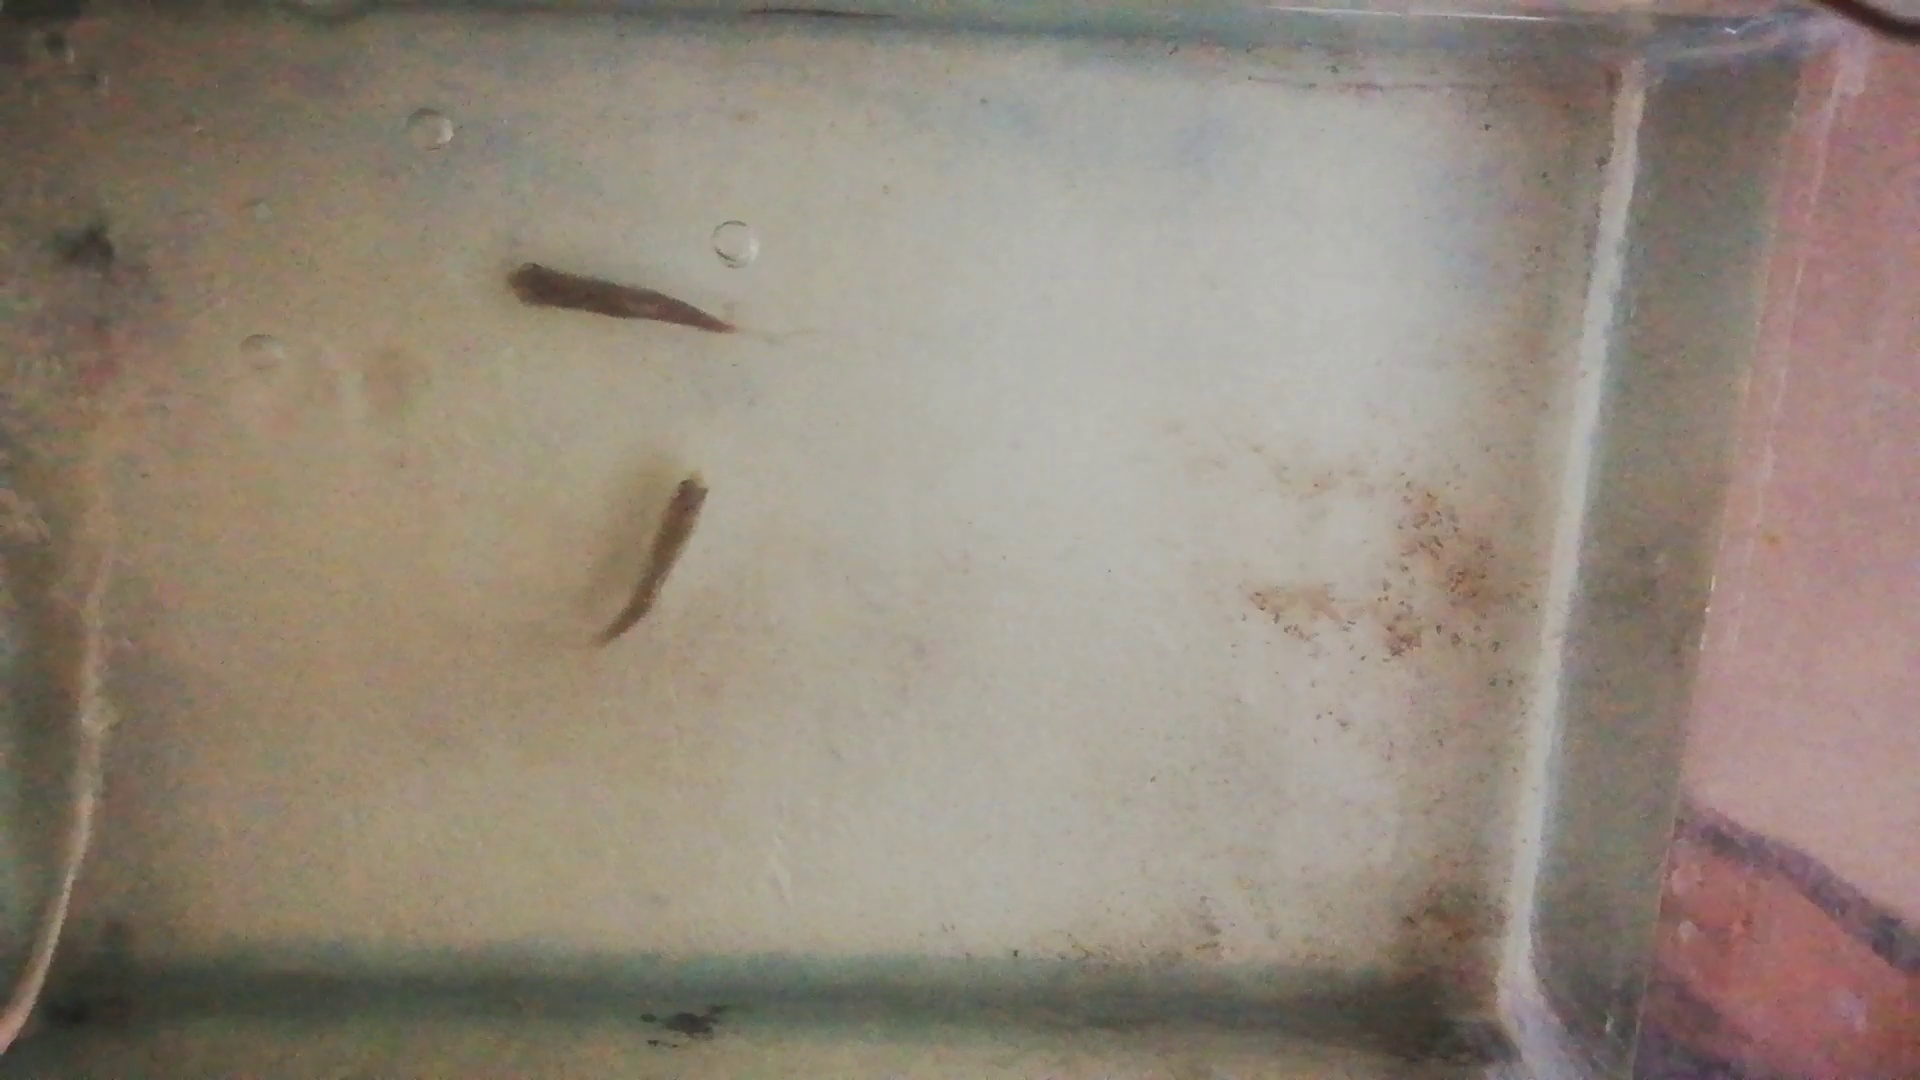fish: (597, 473, 708, 645), (506, 262, 736, 334)
